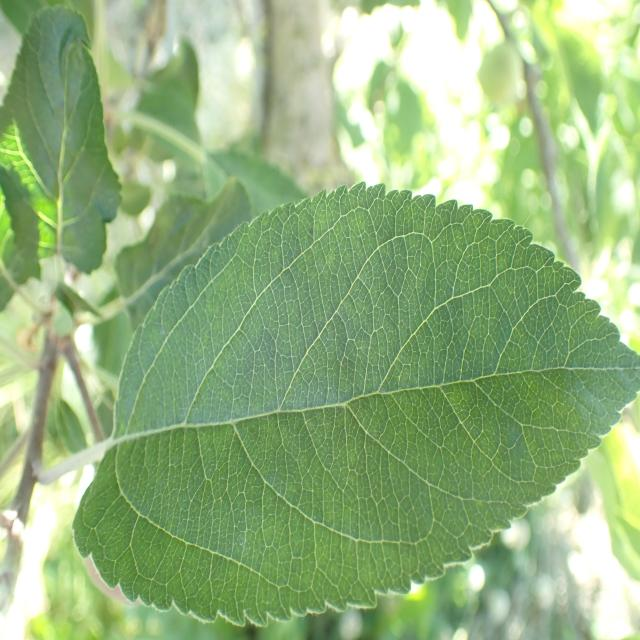healthy: (73, 181, 640, 627), (0, 4, 124, 278)
